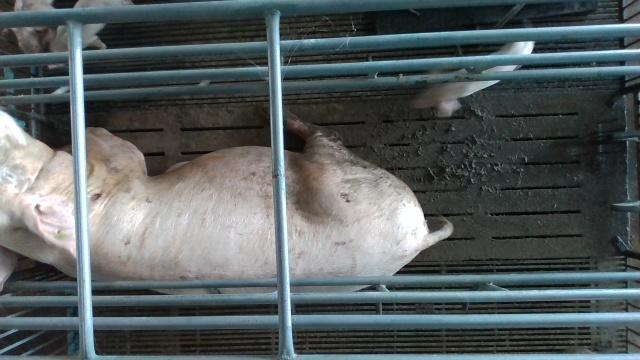piglet: (411, 42, 534, 116), (46, 0, 134, 68), (12, 0, 57, 54)
sow-sit: (1, 107, 456, 296)
